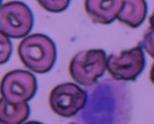N: (78, 78, 132, 123)
